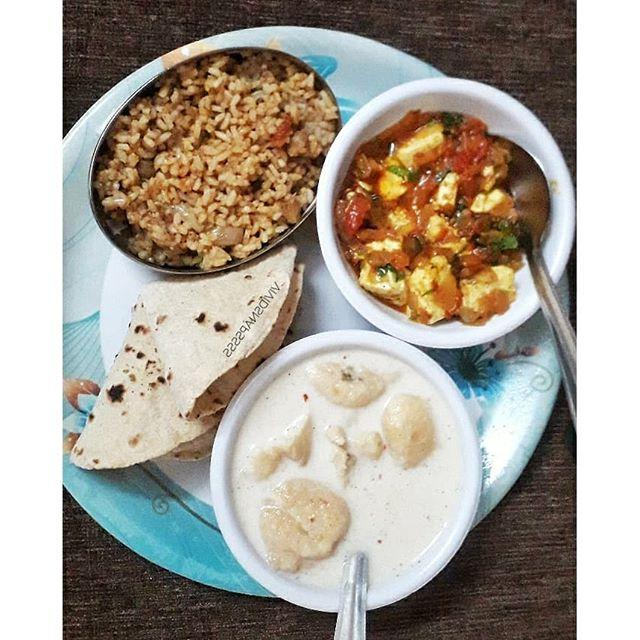Roti: (70, 252, 302, 470)
